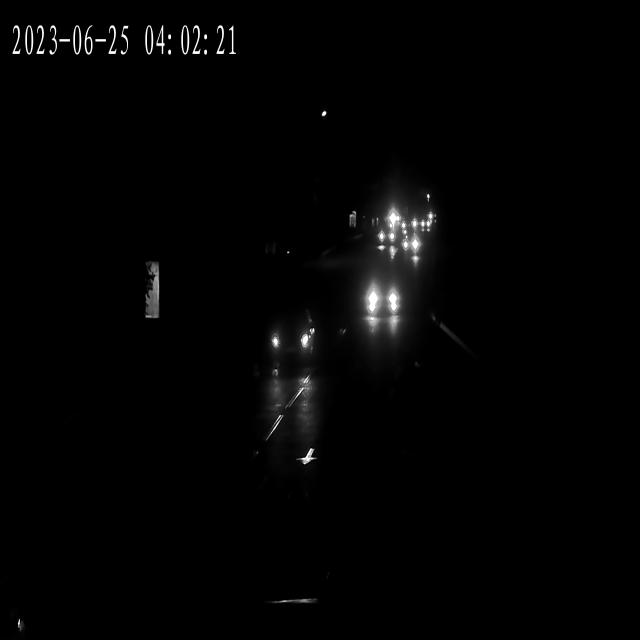Car: (267, 307, 313, 363), (361, 275, 401, 317), (373, 226, 394, 247), (402, 235, 424, 255), (376, 228, 397, 246), (414, 218, 432, 232)
